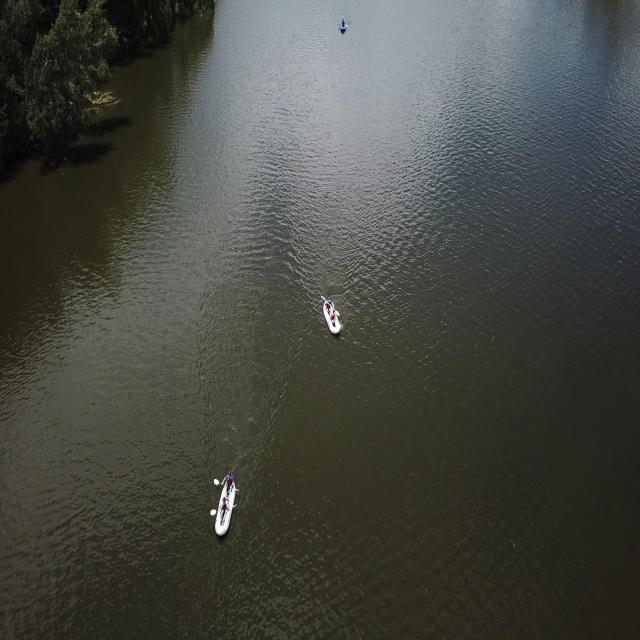kayak: (212, 478, 239, 543), (320, 296, 344, 336), (339, 18, 348, 36)
